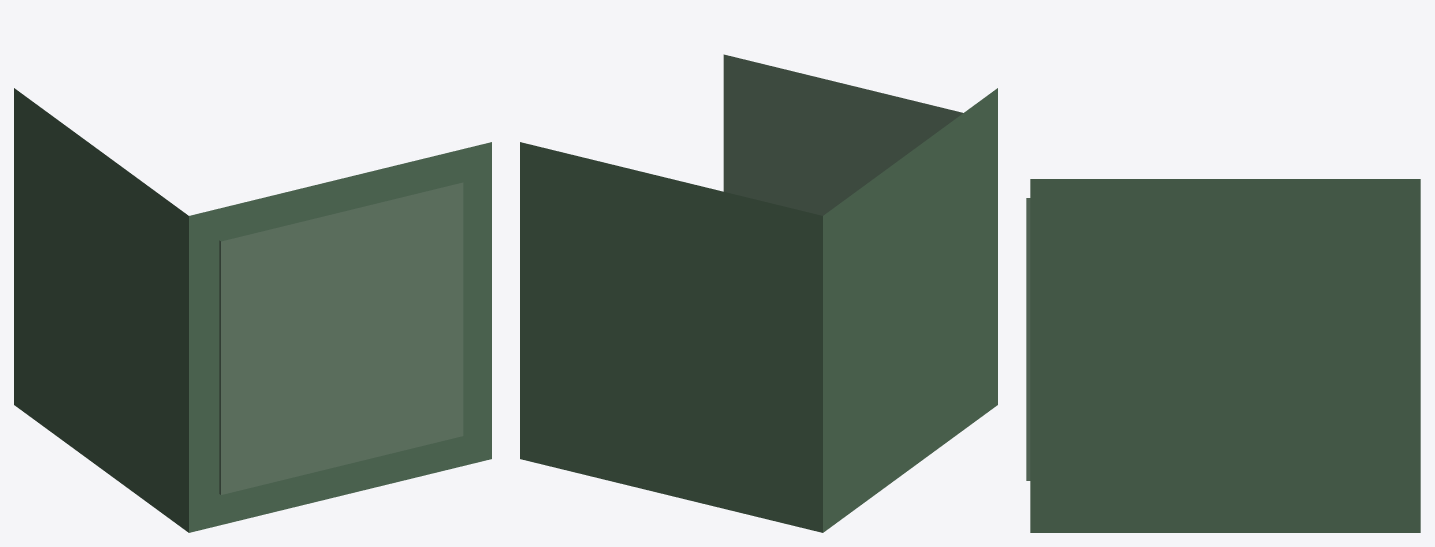
Rendered from Wall-green.glb.
3 views of the same model, side by side, from view 1: azimuth 30°, elevation 25°; view 2: azimuth 150°, elevation 25°; view 3: azimuth 270°, elevation 25° (orthographic). The views are drawn at different scales.
Visible parts, largest first — view 1: Wall; view 2: Wall; view 3: Wall.
Part boxes in pixels (bbox=[...]): Wall: bbox=[14, 88, 491, 532]; Wall: bbox=[520, 54, 997, 532]; Wall: bbox=[1026, 179, 1420, 532].
Bounding box in the file's own units: 1 × 1 × 1.01.
